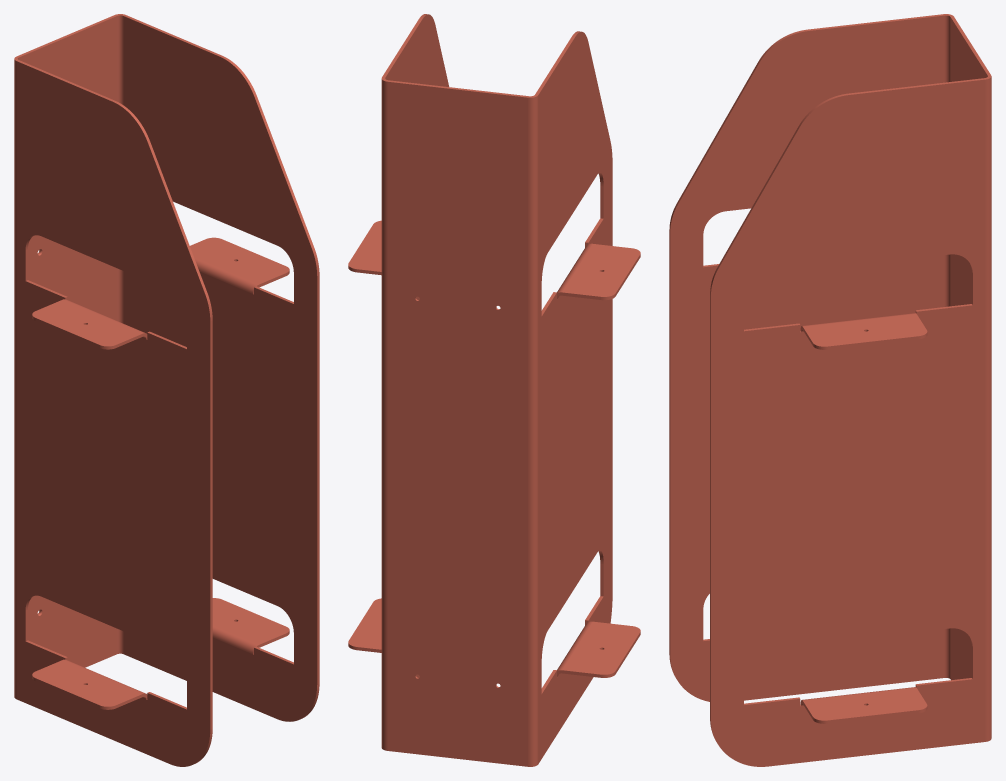
File: Butterfly.glb
3 renders of one model, left to right at view 1: azimuth 30°, elevation 25°; view 2: azimuth 150°, elevation 25°; view 3: azimuth 270°, elevation 25°, orthographic. The views are drawn at different scales.
Visible parts, largest first — view 1: Shape_IndexedFaceSet.054, Shape_IndexedFaceSet.038, Shape_IndexedFaceSet, Shape_IndexedFaceSet.079, Shape_IndexedFaceSet.103, Shape_IndexedFaceSet.109, Shape_IndexedFaceSet.126, Shape_IndexedFaceSet.048, Shape_IndexedFaceSet.059, Shape_IndexedFaceSet.134, Shape_IndexedFaceSet.042, Shape_IndexedFaceSet.113 (+3 smaller); view 2: Shape_IndexedFaceSet.045, Shape_IndexedFaceSet.054, Shape_IndexedFaceSet.048, Shape_IndexedFaceSet.039, Shape_IndexedFaceSet.103, Shape_IndexedFaceSet.079, Shape_IndexedFaceSet.038, Shape_IndexedFaceSet.126, Shape_IndexedFaceSet.109; view 3: Shape_IndexedFaceSet.037, Shape_IndexedFaceSet.085, Shape_IndexedFaceSet.039, Shape_IndexedFaceSet, Shape_IndexedFaceSet.109, Shape_IndexedFaceSet.126, Shape_IndexedFaceSet.051, Shape_IndexedFaceSet.059.
Boxes of the visible parts, x1=… form: Shape_IndexedFaceSet.054: x1=16, y1=61, x2=210, y2=766; Shape_IndexedFaceSet.038: x1=123, y1=16, x2=317, y2=721; Shape_IndexedFaceSet: x1=19, y1=16, x2=116, y2=667; Shape_IndexedFaceSet.079: x1=32, y1=299, x2=142, y2=346; Shape_IndexedFaceSet.103: x1=32, y1=660, x2=142, y2=706; Shape_IndexedFaceSet.109: x1=190, y1=237, x2=289, y2=284; Shape_IndexedFaceSet.126: x1=212, y1=598, x2=289, y2=644; Shape_IndexedFaceSet.048: x1=14, y1=59, x2=16, y2=699; Shape_IndexedFaceSet.059: x1=210, y1=320, x2=212, y2=729; Shape_IndexedFaceSet.134: x1=317, y1=275, x2=319, y2=684; Shape_IndexedFaceSet.042: x1=117, y1=15, x2=123, y2=653; Shape_IndexedFaceSet.113: x1=194, y1=257, x2=258, y2=293; Shape_IndexedFaceSet.045: x1=387, y1=82, x2=527, y2=766; Shape_IndexedFaceSet.054: x1=538, y1=31, x2=612, y2=763; Shape_IndexedFaceSet.048: x1=528, y1=95, x2=538, y2=766; Shape_IndexedFaceSet.039: x1=381, y1=79, x2=387, y2=750; Shape_IndexedFaceSet.103: x1=562, y1=621, x2=640, y2=674; Shape_IndexedFaceSet.079: x1=562, y1=244, x2=640, y2=296; Shape_IndexedFaceSet.038: x1=385, y1=14, x2=449, y2=677; Shape_IndexedFaceSet.126: x1=348, y1=598, x2=381, y2=649; Shape_IndexedFaceSet.109: x1=348, y1=220, x2=381, y2=271; Shape_IndexedFaceSet.037: x1=711, y1=79, x2=985, y2=766; Shape_IndexedFaceSet.085: x1=670, y1=15, x2=944, y2=701; Shape_IndexedFaceSet.039: x1=985, y1=76, x2=991, y2=741; Shape_IndexedFaceSet: x1=950, y1=17, x2=987, y2=680; Shape_IndexedFaceSet.109: x1=803, y1=313, x2=927, y2=346; Shape_IndexedFaceSet.126: x1=803, y1=687, x2=927, y2=720; Shape_IndexedFaceSet.051: x1=944, y1=15, x2=950, y2=678; Shape_IndexedFaceSet.059: x1=669, y1=230, x2=670, y2=654.
Bounding box in the file's own units: 2.46 × 6.2 × 2.73.
